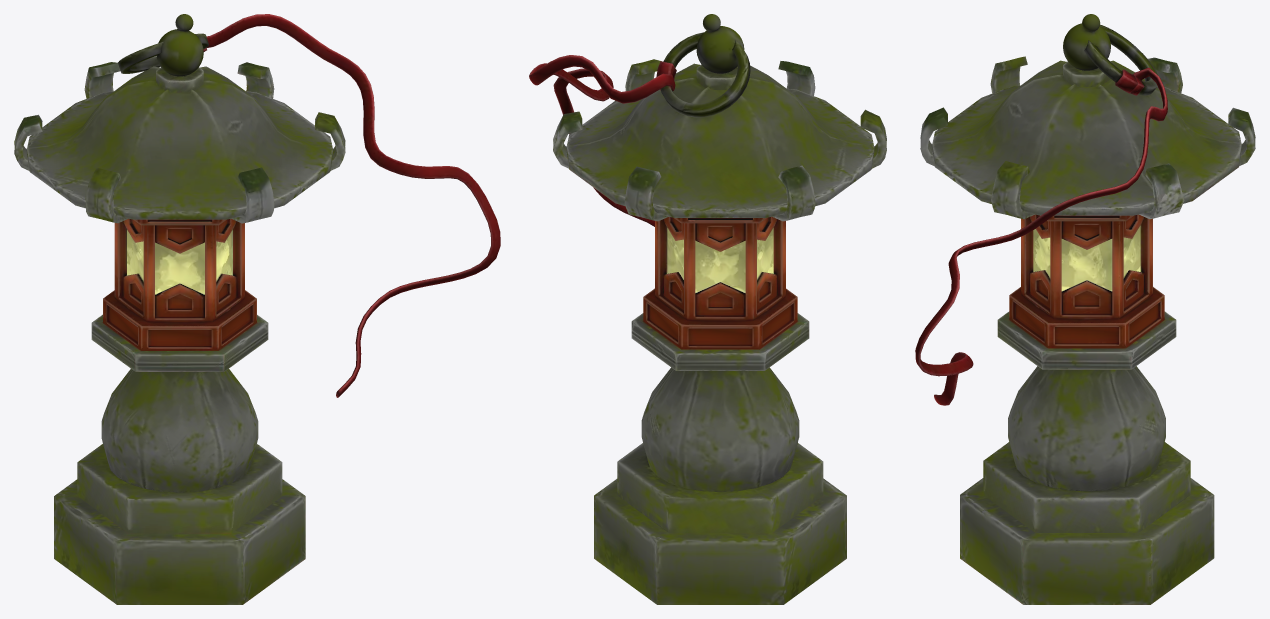
Rendered from lantern.glb.
The picture shows the model from 3 angles, left to right: view 1: azimuth 30°, elevation 25°; view 2: azimuth 150°, elevation 25°; view 3: azimuth 270°, elevation 25°; orthographic projection.
Parts seen in each view (by area): view 1: Toro_low_Toro_0, Rope_low_Rope_0, Sphere_low_Spheres_0, Ring_low_Ring_0; view 2: Toro_low_Toro_0, Rope_low_Rope_0, Ring_low_Ring_0, Sphere_low_Spheres_0; view 3: Toro_low_Toro_0, Rope_low_Rope_0, Ring_low_Ring_0, Sphere_low_Spheres_0.
Boxes of the visible parts, x1,y1,x2,y2 form: Toro_low_Toro_0: (14, 62, 345, 604); Rope_low_Rope_0: (206, 14, 500, 397); Sphere_low_Spheres_0: (156, 14, 203, 76); Ring_low_Ring_0: (118, 33, 208, 73); Toro_low_Toro_0: (553, 59, 886, 604); Rope_low_Rope_0: (529, 55, 675, 226); Ring_low_Ring_0: (656, 32, 750, 117); Sphere_low_Spheres_0: (696, 14, 744, 73); Toro_low_Toro_0: (920, 56, 1255, 604); Rope_low_Rope_0: (915, 67, 1167, 405); Ring_low_Ring_0: (1084, 24, 1157, 95); Sphere_low_Spheres_0: (1063, 14, 1110, 70).
Bounding box in the file's own units: 6.77 × 9.49 × 5.35.
Materials: 4 (4 with a texture image).
